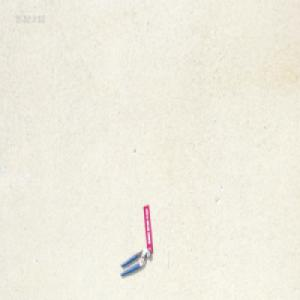Label: (142, 204, 153, 252)
Pliers: (119, 246, 150, 276)
